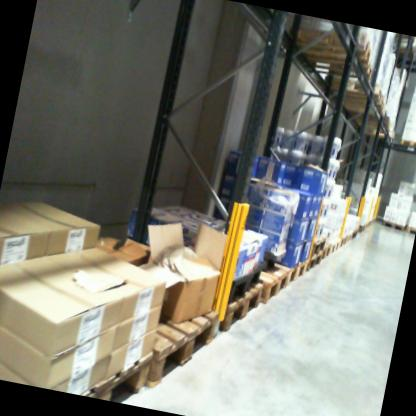pallet: (282, 36, 416, 158), (136, 301, 226, 404), (72, 336, 157, 404), (285, 18, 380, 66), (201, 247, 269, 311), (219, 278, 265, 337), (245, 250, 291, 304), (320, 69, 385, 104), (324, 77, 388, 111), (275, 256, 309, 292), (300, 247, 327, 281), (304, 227, 331, 258), (377, 214, 408, 237), (318, 234, 341, 258), (331, 234, 346, 255), (404, 223, 416, 235)
